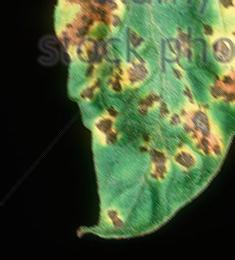Tomato Septoria leaf spot: (24, 0, 235, 244)
